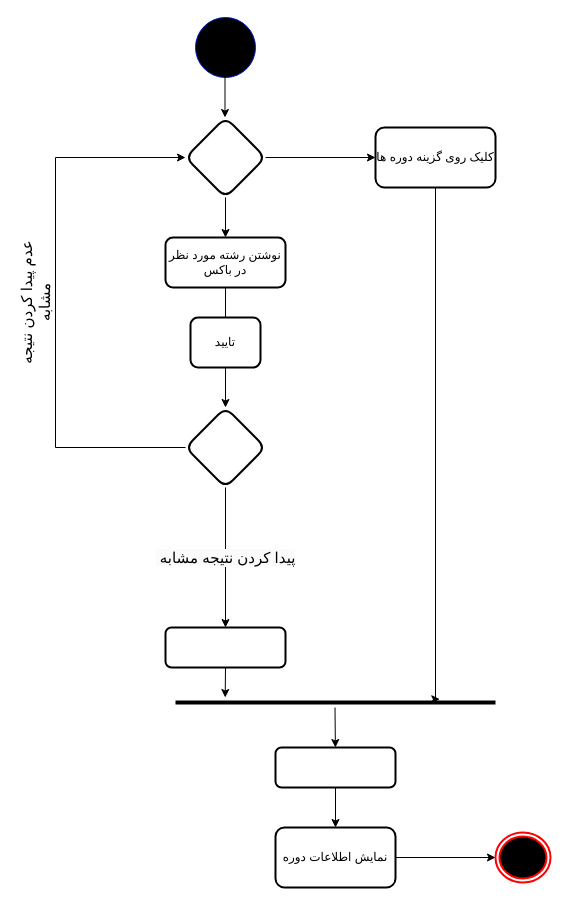
Some shapes in this 568 by 906 pixel diagram are drawn without their labels. Here are the shapes that lost their labels. From the top down, the box of each, then its label:
(164, 626, 286, 668): نمایش موارد مشابه
(274, 746, 396, 788): کلیک روی نام دوره
